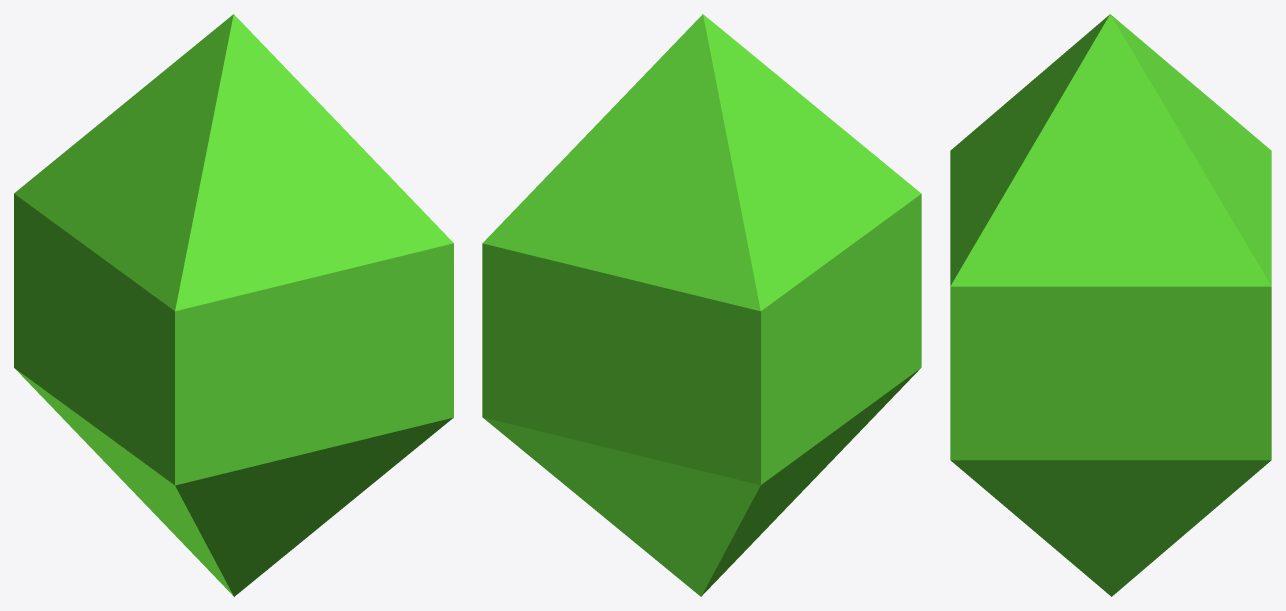
The model's file is enemy.fbx.
The picture shows the model from 3 angles, left to right: view 1: azimuth 30°, elevation 25°; view 2: azimuth 150°, elevation 25°; view 3: azimuth 270°, elevation 25°; orthographic projection.
Visible parts, largest first — view 1: Cube; view 2: Cube; view 3: Cube.
Boxes of the visible parts, <box> form: Cube: <box>14,14,453,596</box>; Cube: <box>482,14,921,596</box>; Cube: <box>950,14,1271,596</box>.
Size of the model in its own units: 200 by 400 by 200.
